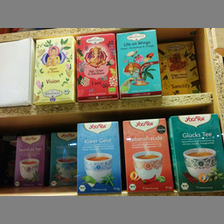tea: (169, 112, 222, 195), (123, 117, 174, 194), (116, 29, 164, 99), (76, 122, 121, 194), (34, 36, 74, 104), (76, 32, 116, 99), (158, 38, 202, 95), (13, 135, 47, 187), (48, 131, 76, 187)
